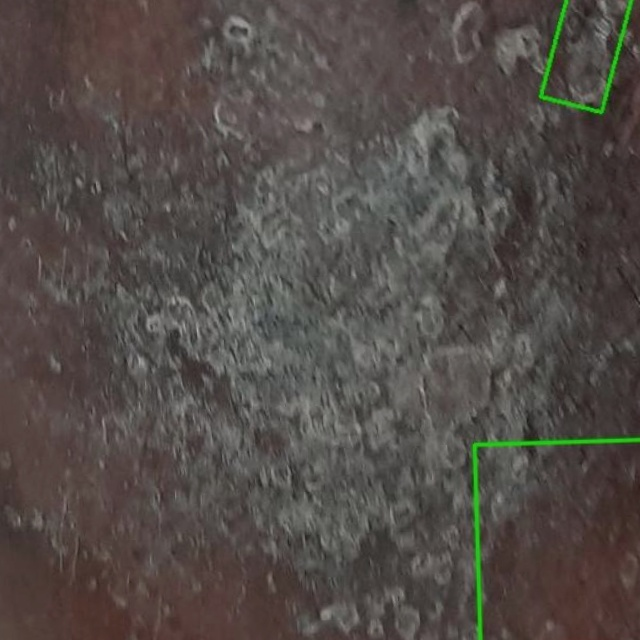Tinea Corporis: (474, 439, 639, 639), (540, 0, 631, 113)
